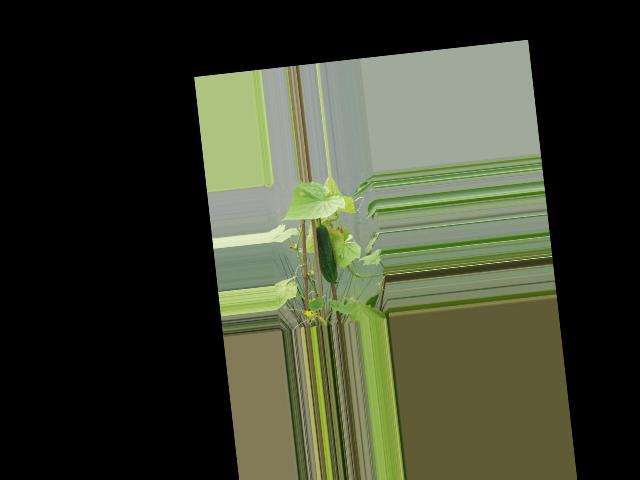cucumber: (314, 223, 338, 285)
